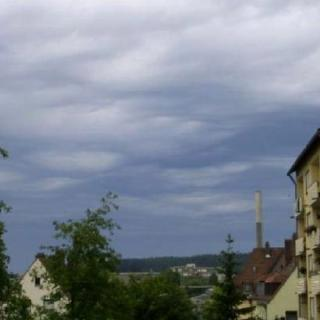Altocumulus: (0, 0, 311, 257)
